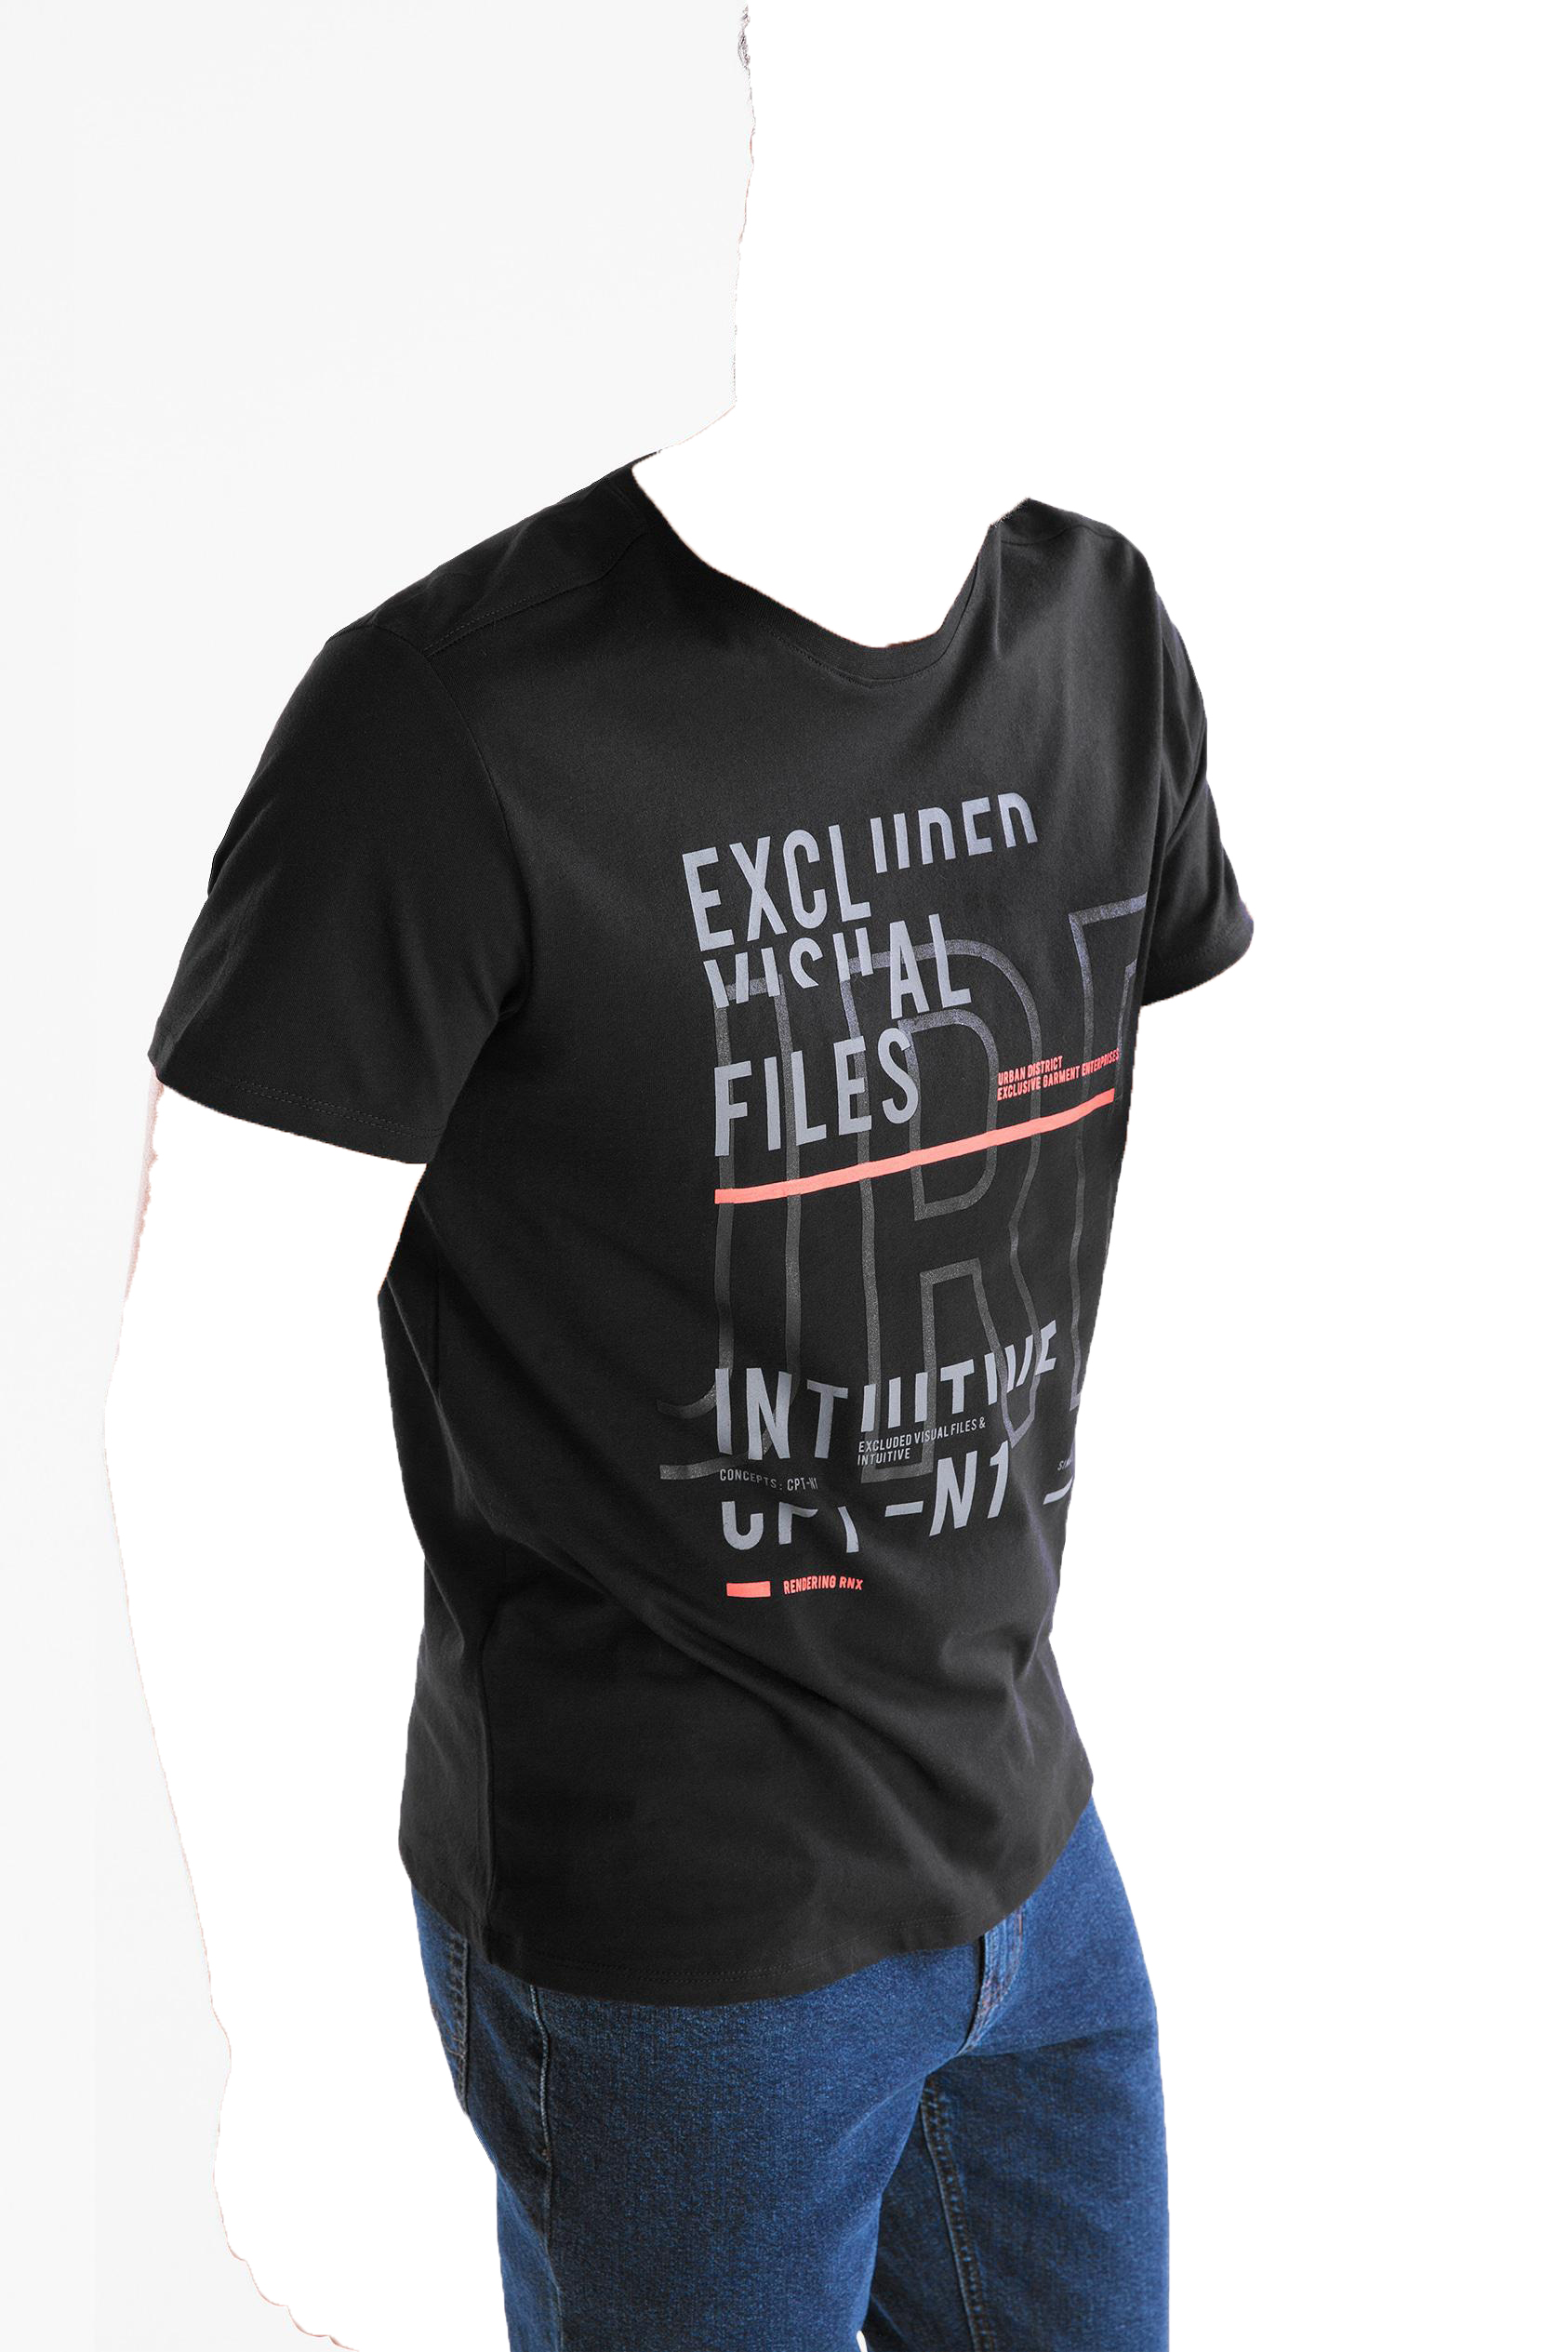teeshirt: (145, 436, 1269, 2006)
